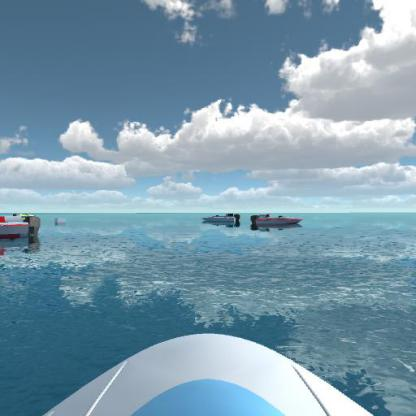usv1: (202, 209, 242, 230)
usv2: (12, 207, 39, 222)
usv3: (0, 213, 49, 247), (247, 210, 304, 232)
